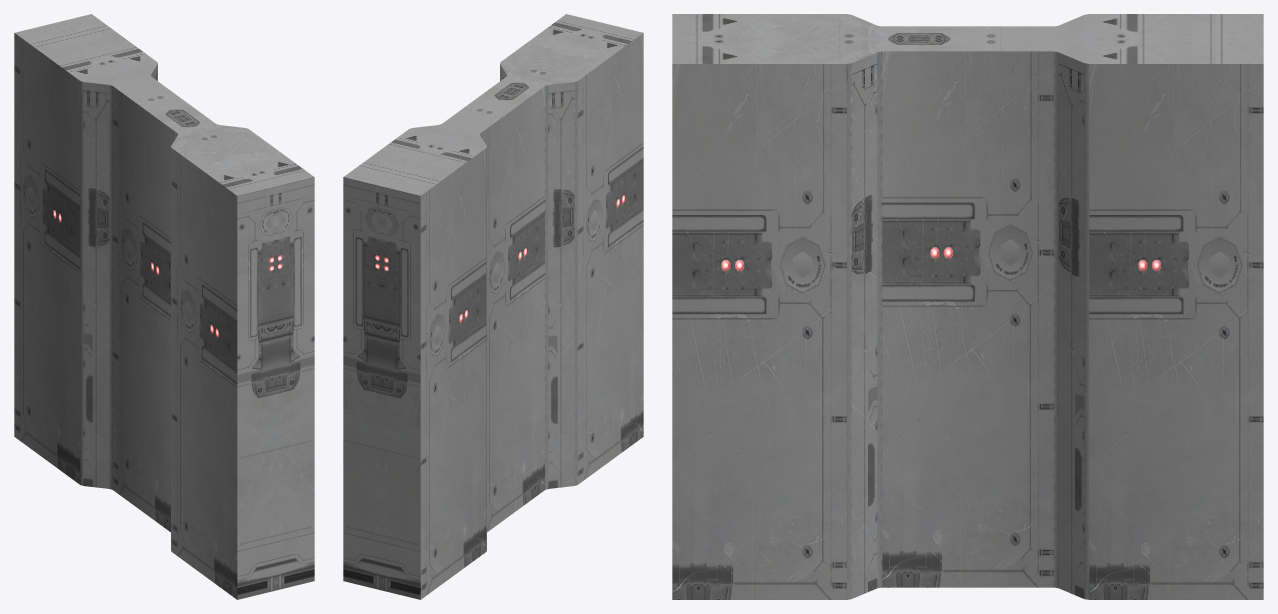
Rendered from SM_WallS013b5.fbx.
3 views of the same model, side by side, from view 1: azimuth 30°, elevation 25°; view 2: azimuth 150°, elevation 25°; view 3: azimuth 270°, elevation 25° (orthographic). The views are drawn at different scales.
Parts seen in each view (by area): view 1: SM_WallS013b5_LOD0; view 2: SM_WallS013b5_LOD0; view 3: SM_WallS013b5_LOD0.
Part boxes in pixels (<box>): SM_WallS013b5_LOD0: <box>14,14,314,599</box>; SM_WallS013b5_LOD0: <box>343,14,643,599</box>; SM_WallS013b5_LOD0: <box>672,14,1263,599</box>.
Size of the model in its own units: 80 by 400 by 400.
Materials: 2 (2 with a texture image).
